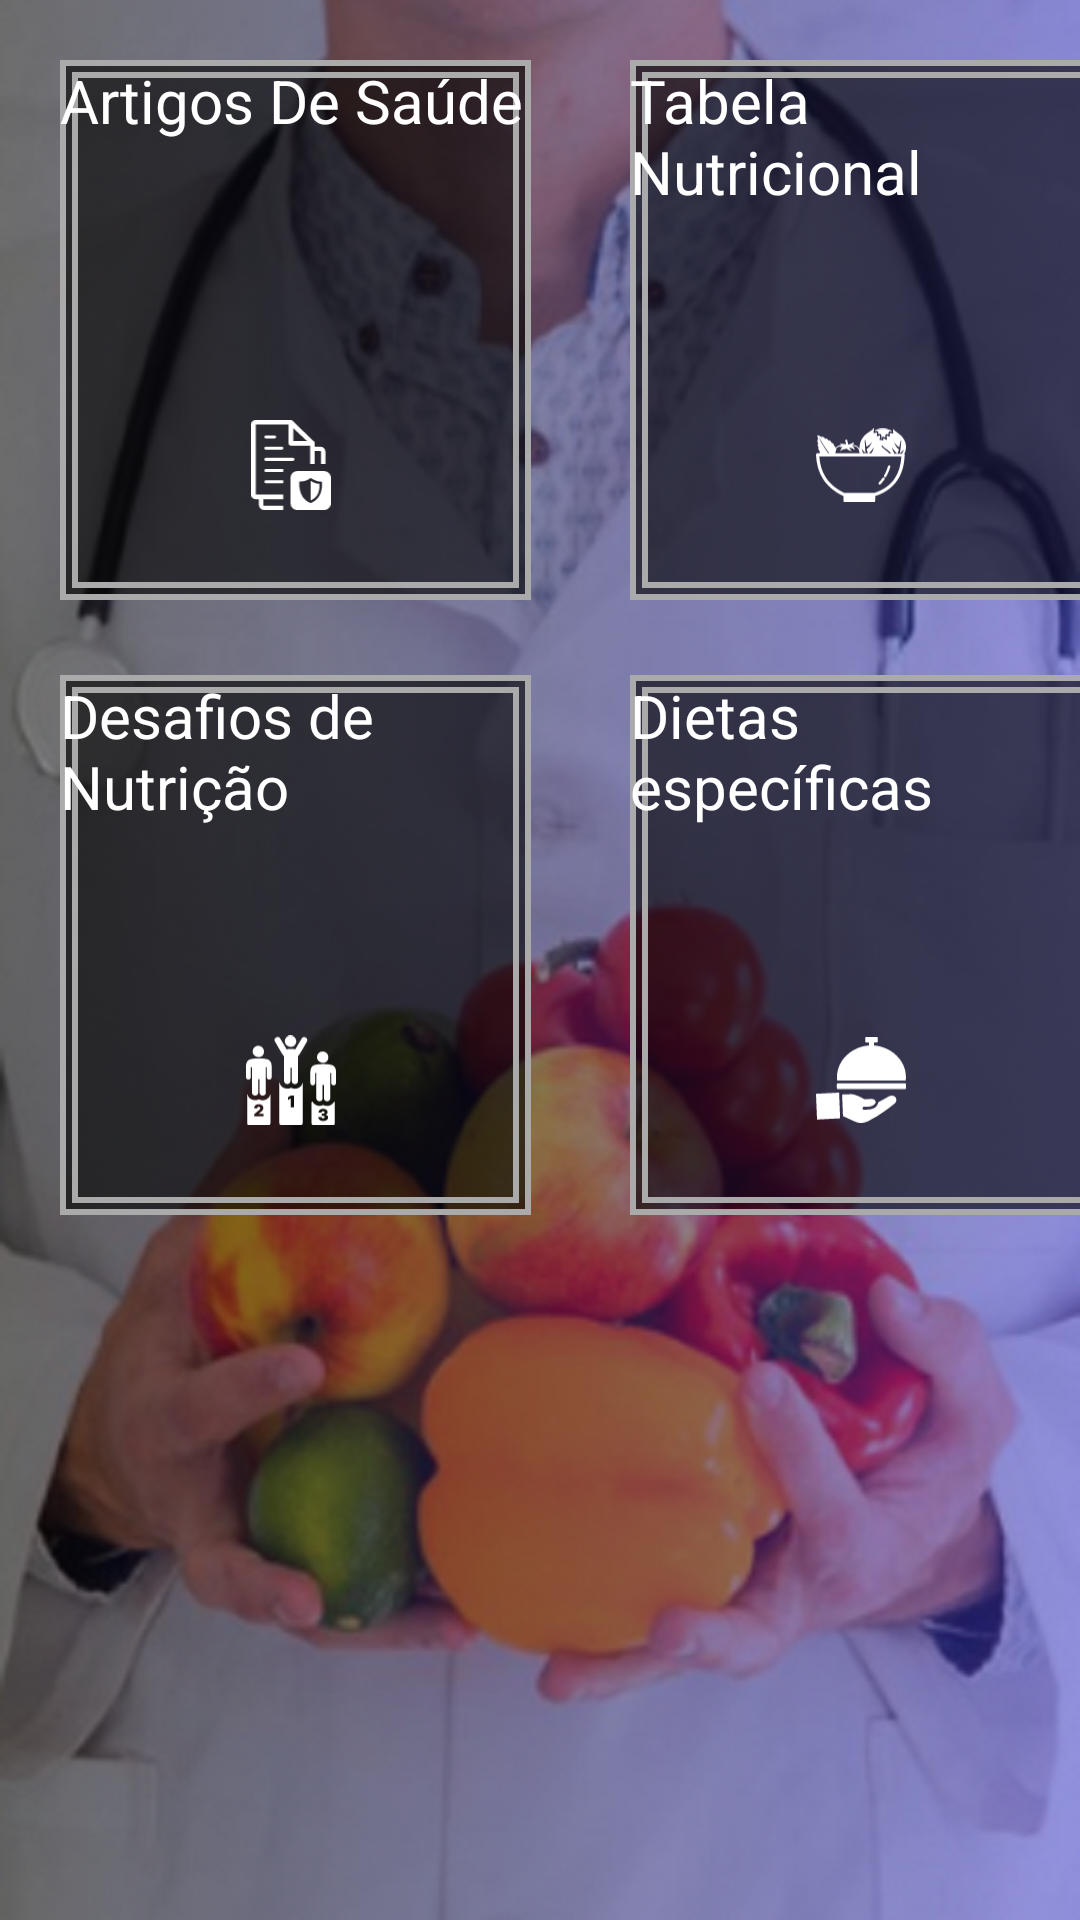

Screen size 1080px×1920px. Icon name, then its center in pixels as point (x, y):
competition: point (291, 1080)
nutrition: point (861, 465)
